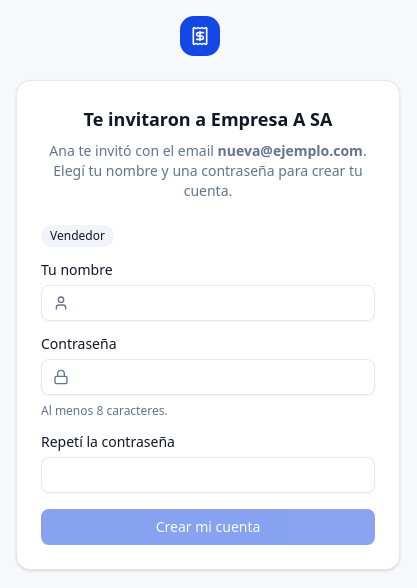
Test: Aceptar invitación › si el email ya tenía cuenta lo dice y manda a ingresar con la contraseña de siempre
The width and height of the screenshot is (417, 588).
Type "Nueva Persona" into the field labelled "Tu nombre" at (208, 303), box x1=41 y1=285 x2=375 y2=321
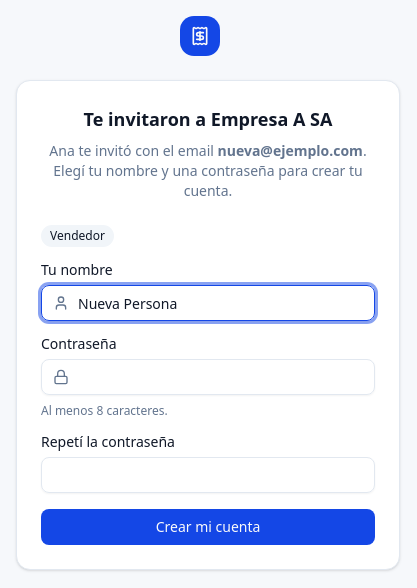
Type "password123" into the password field labelled "Contraseña" at (208, 377), box x1=41 y1=359 x2=375 y2=395
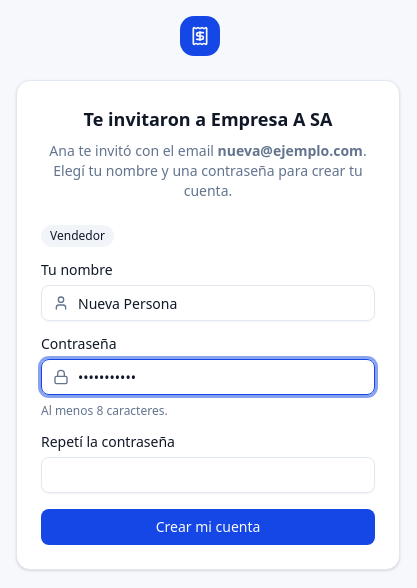
Type "password123" into the password field labelled "Repetí la contraseña" at (208, 475), box x1=41 y1=457 x2=375 y2=493
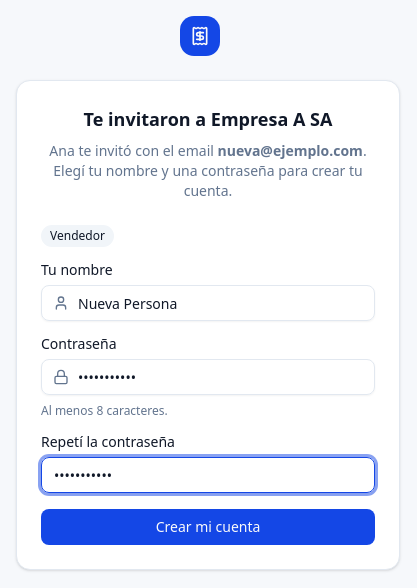
Click the button "Crear mi cuenta" at (208, 527), box x1=41 y1=509 x2=375 y2=545
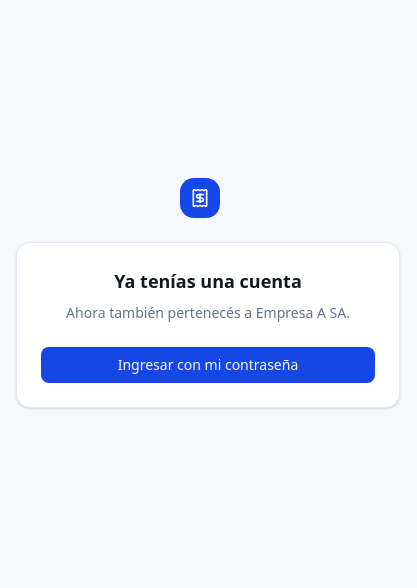
Check: the text "Ya tenías una cuenta" is shown, box x1=114 y1=269 x2=302 y2=293
